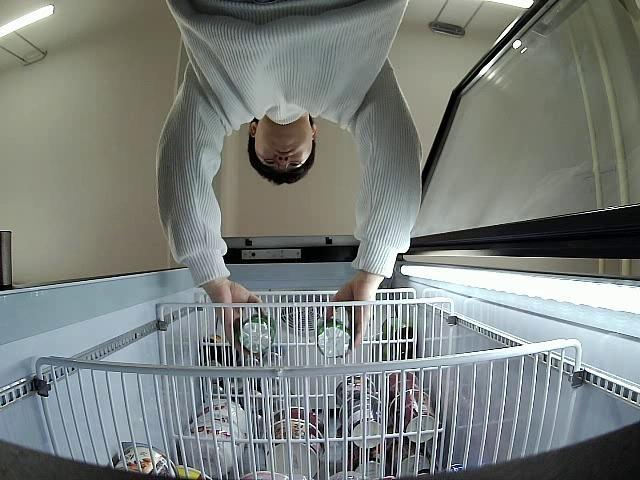18_trevi: (316, 319, 351, 358), (240, 316, 274, 354)
